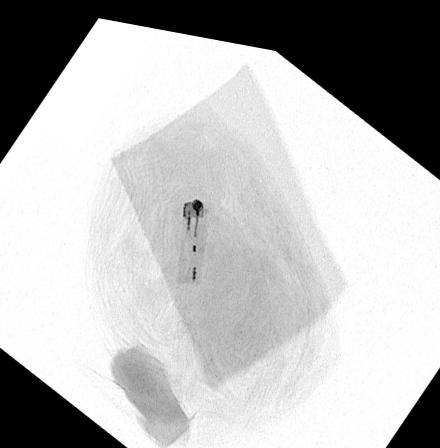Lighter: (173, 191, 207, 277)
